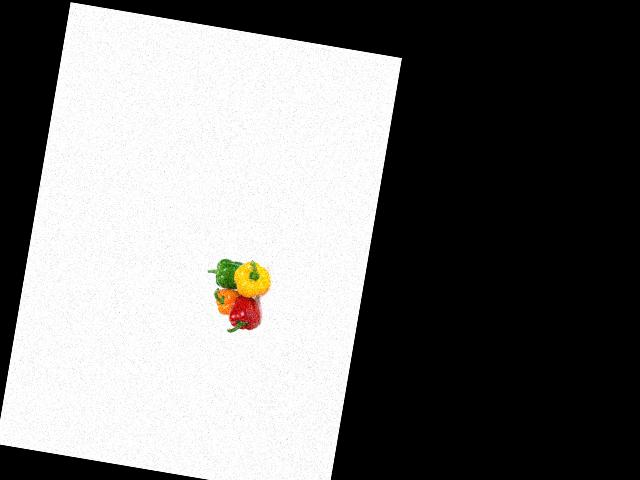bell_pepper: (231, 255, 275, 302)
